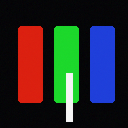4 line_v: (66, 73, 72, 121)
